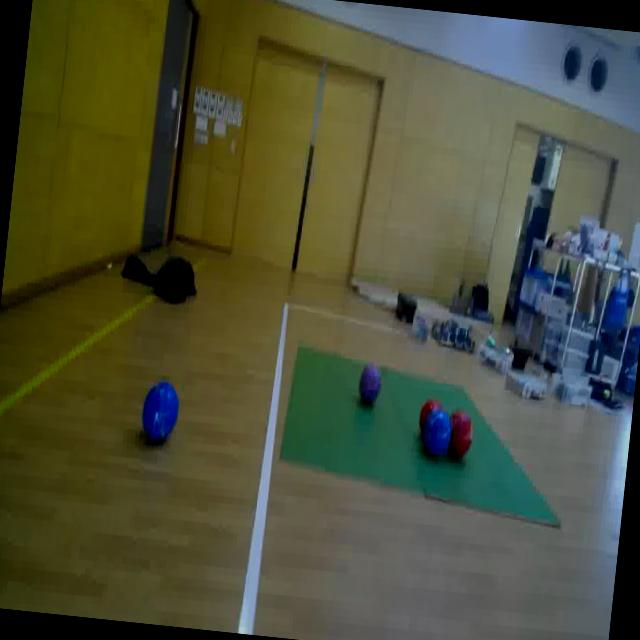blue_ball: (138, 376, 183, 446), (420, 408, 454, 459)
purple_ball: (356, 362, 384, 402)
red_ball: (445, 406, 476, 463), (418, 396, 440, 435)
